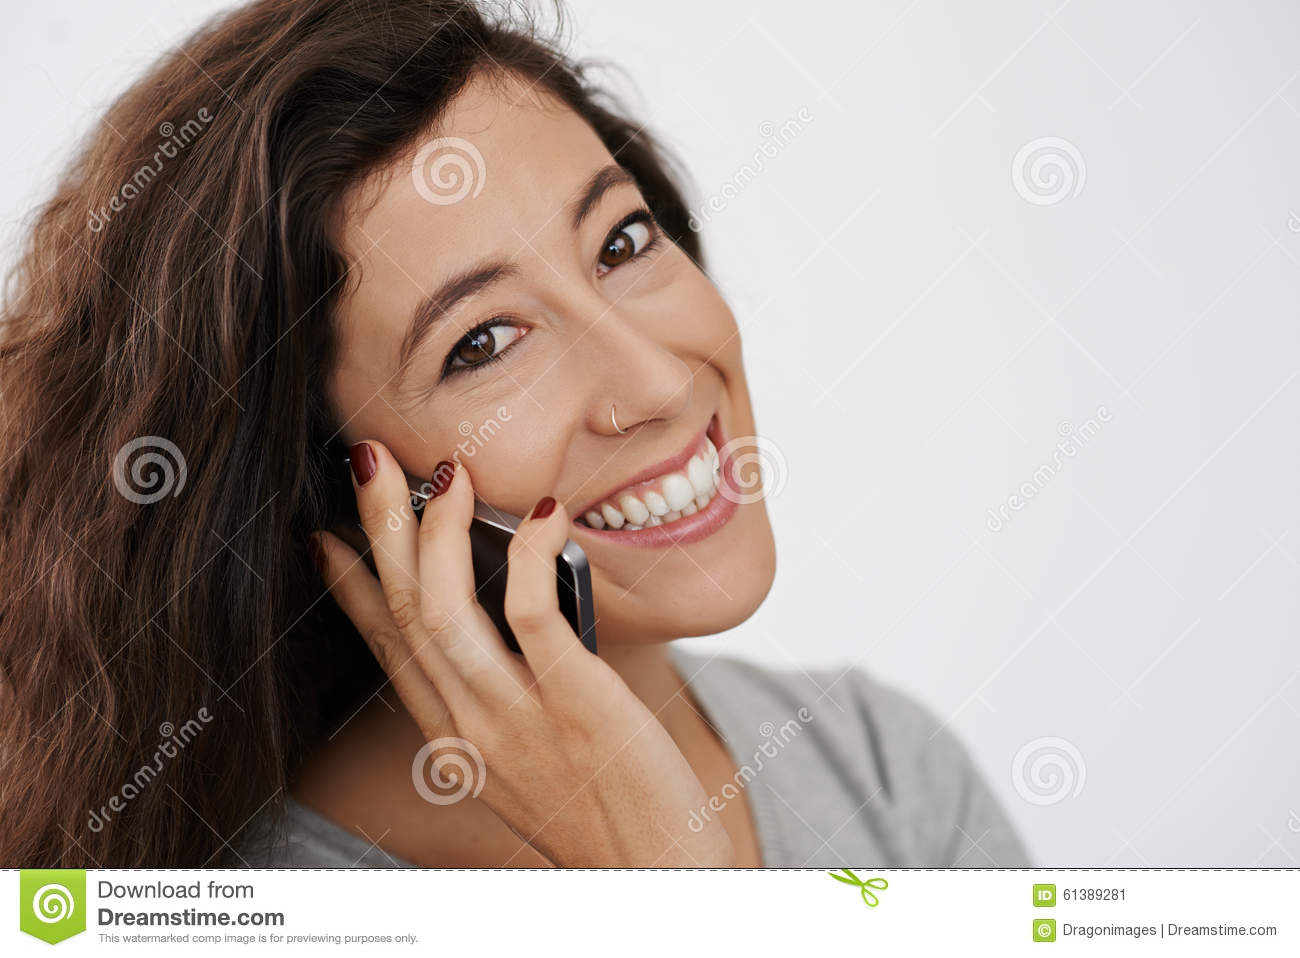talk: (316, 152, 781, 864)
